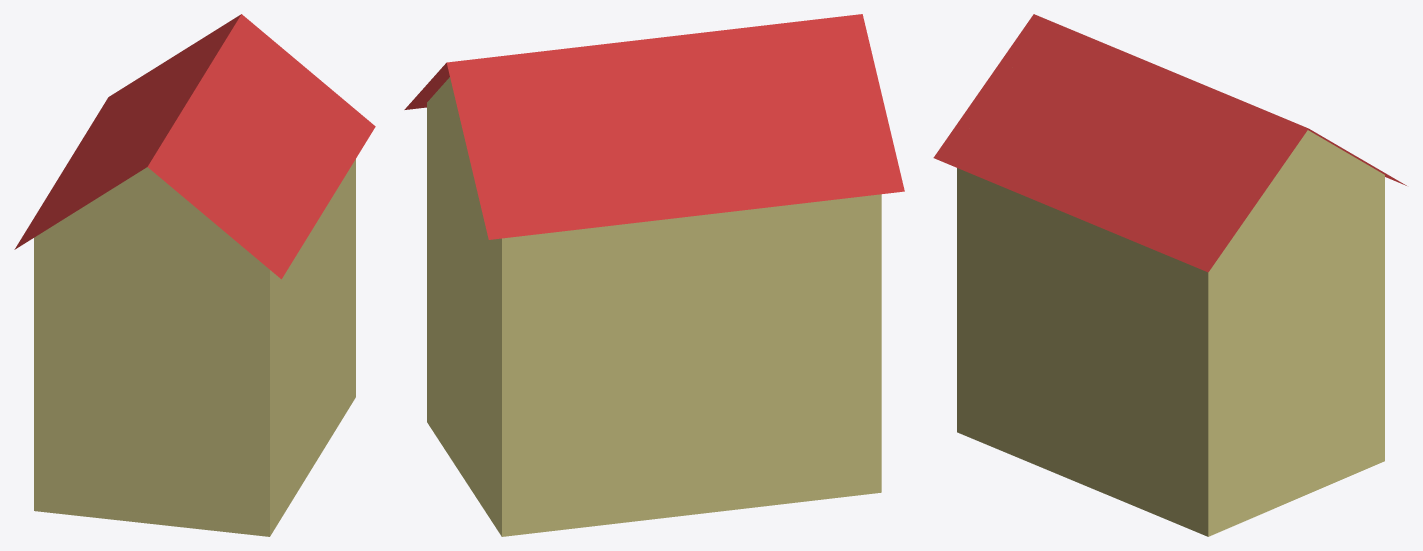
3 views of the same model, side by side, from view 1: azimuth 30°, elevation 25°; view 2: azimuth 150°, elevation 25°; view 3: azimuth 270°, elevation 25° (orthographic). The views are drawn at different scales.
Size of the model in its own units: 14.13 by 14.16 by 12.34.
